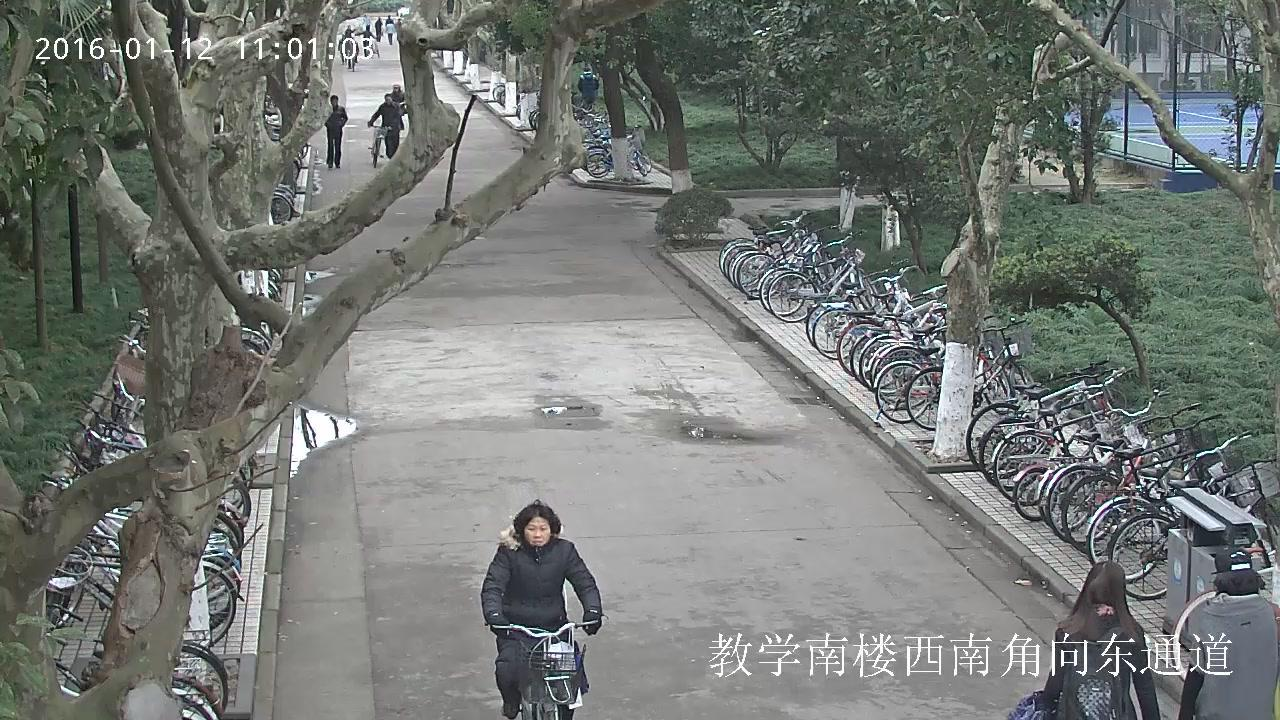person: (480, 498, 609, 720), (481, 499, 602, 720), (1005, 561, 1160, 720), (1177, 545, 1280, 720), (367, 93, 404, 168), (367, 93, 404, 159), (324, 95, 348, 168), (389, 83, 407, 130), (577, 68, 599, 105), (355, 24, 379, 57), (355, 24, 375, 57), (345, 37, 359, 71), (345, 37, 359, 69), (338, 34, 348, 64), (386, 19, 395, 45), (374, 16, 382, 42), (344, 25, 355, 37)
